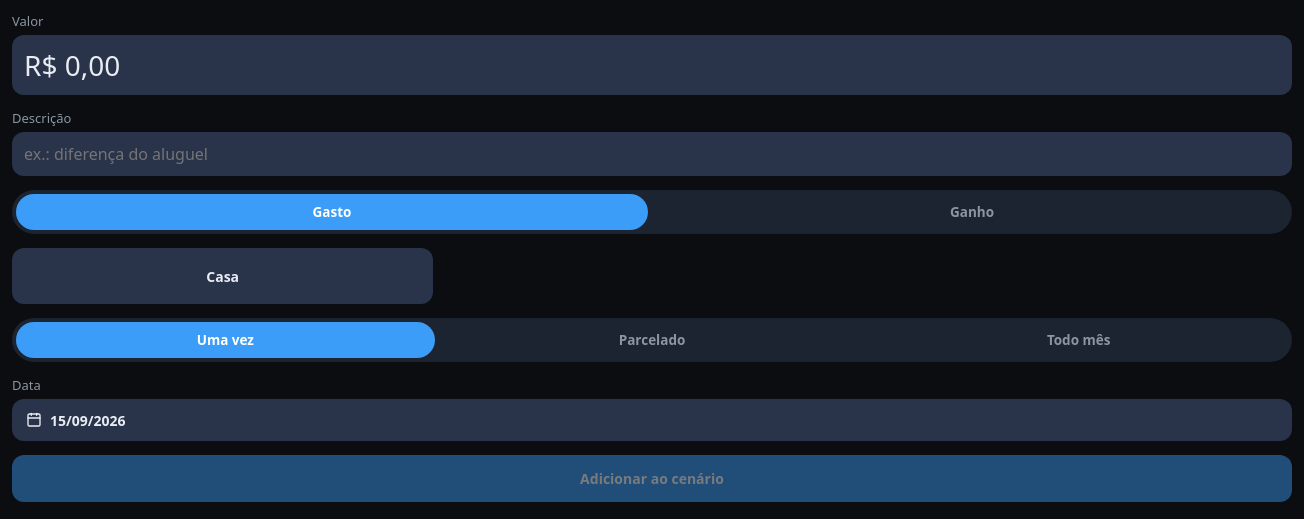
Test: trocar para Ganho mostra só categorias de ganho
The image size is (1304, 519).
Click the radio button labelled "Ganho": click(972, 212) [656,194,1288,230]
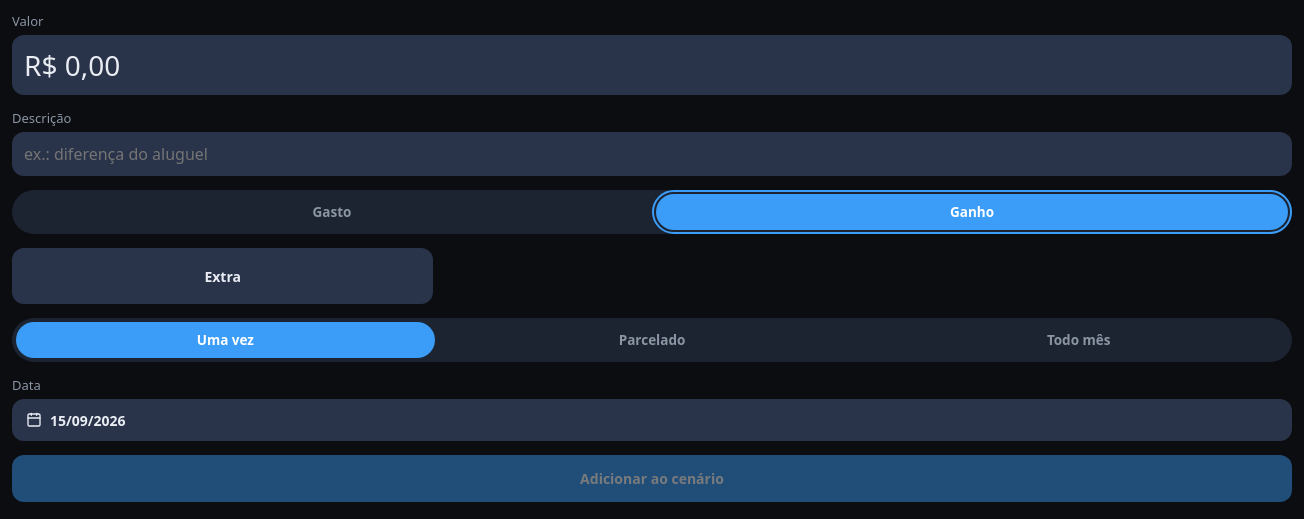
Result: the button "Extra" is shown at [12,248,433,304]
Result: the button "Casa" is gone
